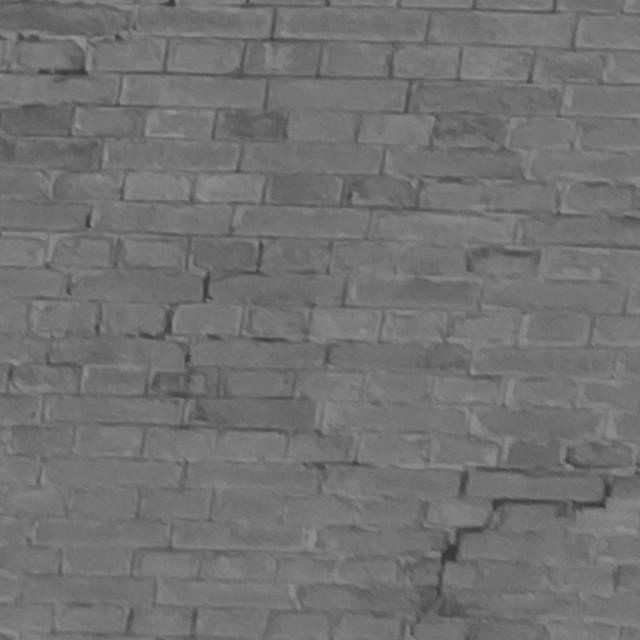crack: (410, 461, 640, 640)
